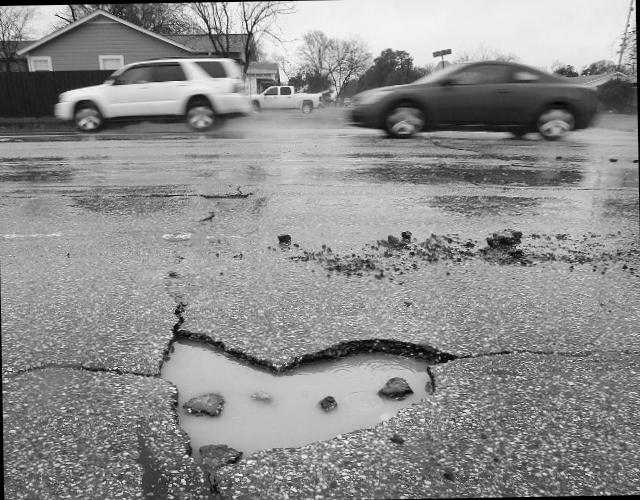Pothole: (146, 288, 485, 473)
